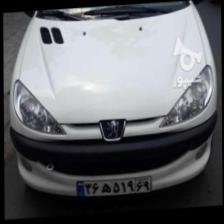plate: (75, 176, 152, 201)
